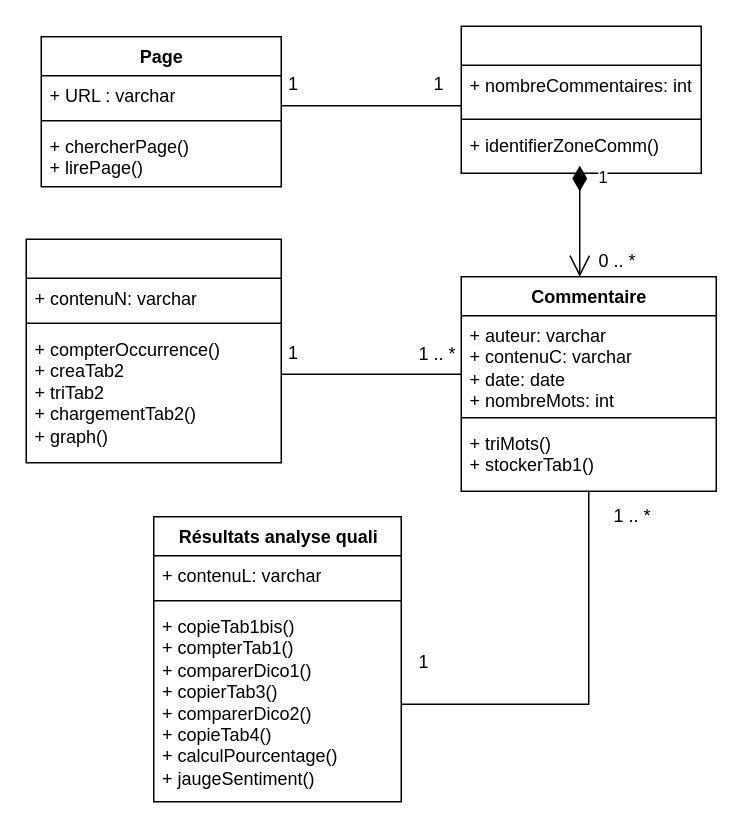
This 743x833 diagram has some shape labels left out. The shapes that lost their labels are listed below. From the top down, each one's box as (x1, y1, x2, y2) in pixels, then its label:
(460, 25, 701, 173): Espace commentaires
(25, 238, 281, 463): Résultats analyse quanti
